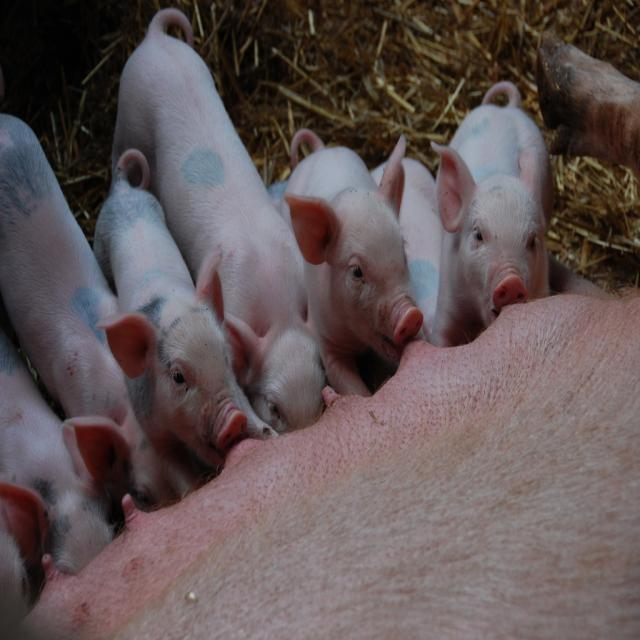Pig: (0, 8, 640, 639)
